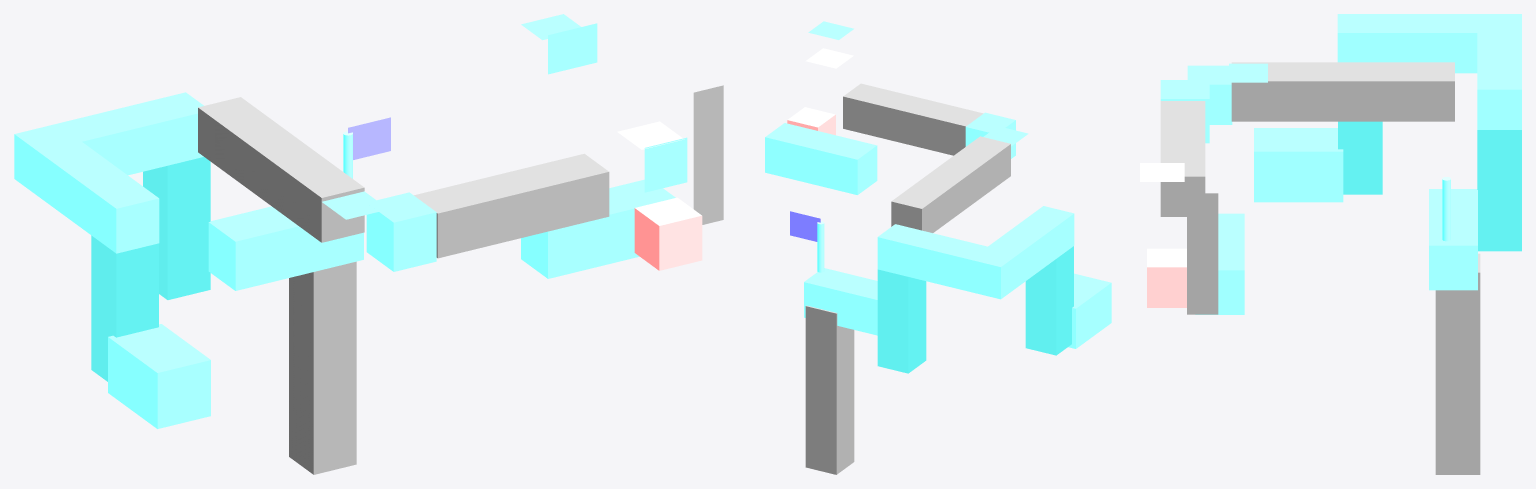
Rendered from level4_0.glb.
3 renders of one model, left to right at view 1: azimuth 30°, elevation 25°; view 2: azimuth 150°, elevation 25°; view 3: azimuth 270°, elevation 25°, orthographic. The views are drawn at different scales.
Parts seen in each view (by area): view 1: Box_test, Box_move_l2, Box_move_l1, Box_1, Box_2, Box_4, Box1, Box, Box_3, Box2, Box_5, Box_7 (+7 smaller); view 2: Box_test, Box_1, Box_move_l1, Box_move_l2, Box2, Box, Box_3, Box_2, Box1, Box_4, Box_5, Box_7 (+5 smaller); view 3: Box_move_l1, Box_test, Box_2, Box_4, Box, Box_1, Box1, Box_move_l2, Plane_5, Box_3, Box2, Box_7 (+6 smaller).
Boxes of the visible parts, left/top/right/bottom form: Box_test: left=289, top=261, right=356, bottom=474; Box_move_l2: left=414, top=153, right=609, bottom=258; Box_move_l1: left=198, top=97, right=364, bottom=242; Box_1: left=14, top=92, right=203, bottom=196; Box_2: left=36, top=139, right=159, bottom=253; Box_4: left=108, top=324, right=210, bottom=428; Box1: left=208, top=206, right=363, bottom=290; Box: left=143, top=157, right=210, bottom=299; Box_3: left=91, top=235, right=158, bottom=381; Box2: left=521, top=179, right=675, bottom=278; Box_5: left=366, top=192, right=436, bottom=271; Box_7: left=634, top=197, right=702, bottom=270; Box_test: left=805, top=305, right=854, bottom=474; Box_1: left=877, top=224, right=1018, bottom=299; Box_move_l1: left=891, top=136, right=1010, bottom=232; Box_move_l2: left=843, top=83, right=983, bottom=155; Box2: left=765, top=123, right=877, bottom=194; Box: left=877, top=269, right=926, bottom=373; Box_3: left=1025, top=246, right=1073, bottom=355; Box_2: left=987, top=206, right=1074, bottom=285; Box1: left=804, top=268, right=877, bottom=335; Box_4: left=1068, top=273, right=1111, bottom=348; Box_5: left=965, top=112, right=1015, bottom=158; Box_7: left=787, top=107, right=835, bottom=135; Box_move_l1: left=1231, top=62, right=1454, bottom=121; Box_test: left=1435, top=253, right=1480, bottom=474; Box_2: left=1337, top=14, right=1482, bottom=73; Box_4: left=1254, top=128, right=1343, bottom=202; Box: left=1477, top=130, right=1521, bottom=251; Box_1: left=1477, top=14, right=1521, bottom=129; Box1: left=1429, top=189, right=1477, bottom=290; Box_move_l2: left=1160, top=101, right=1205, bottom=216; Plane_5: left=1187, top=193, right=1218, bottom=314; Box_3: left=1338, top=121, right=1382, bottom=194; Box2: left=1195, top=213, right=1244, bottom=314; Box_7: left=1147, top=248, right=1186, bottom=307.
Size of the model in its own units: 24.52 by 22.14 by 17.1.
